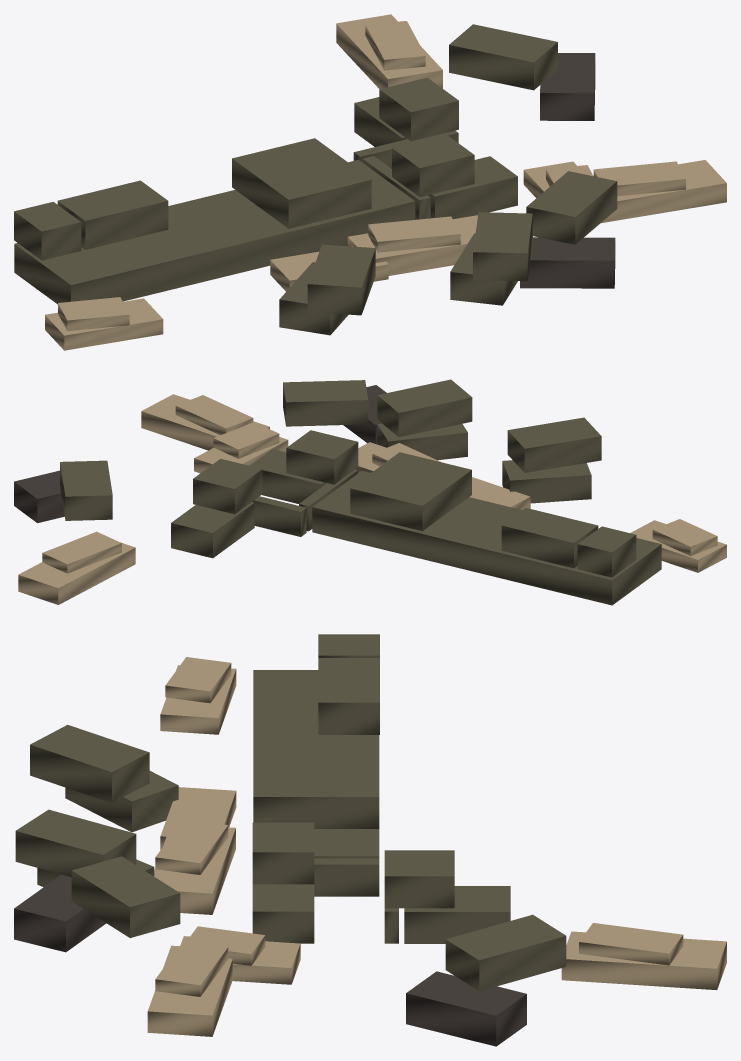
Rendered from SM_SacosRemateEspejo_v0_Recto_e2_MuyDanado_LOD1.fbx.
3 renders of one model, top to bottom at view 1: azimuth 30°, elevation 25°; view 2: azimuth 150°, elevation 25°; view 3: azimuth 270°, elevation 25°, orthographic. The views are drawn at different scales.
Visible parts, largest first — view 1: SM_sacos_piezas_v22_LOD1; view 2: SM_sacos_piezas_v22_LOD1; view 3: SM_sacos_piezas_v22_LOD1.
Boxes of the visible parts, <box> form: SM_sacos_piezas_v22_LOD1: <box>14,14,726,350</box>; SM_sacos_piezas_v22_LOD1: <box>14,379,726,605</box>; SM_sacos_piezas_v22_LOD1: <box>14,634,726,1046</box>.
Bounding box in the file's own units: 6.58 × 0.585 × 5.44.
